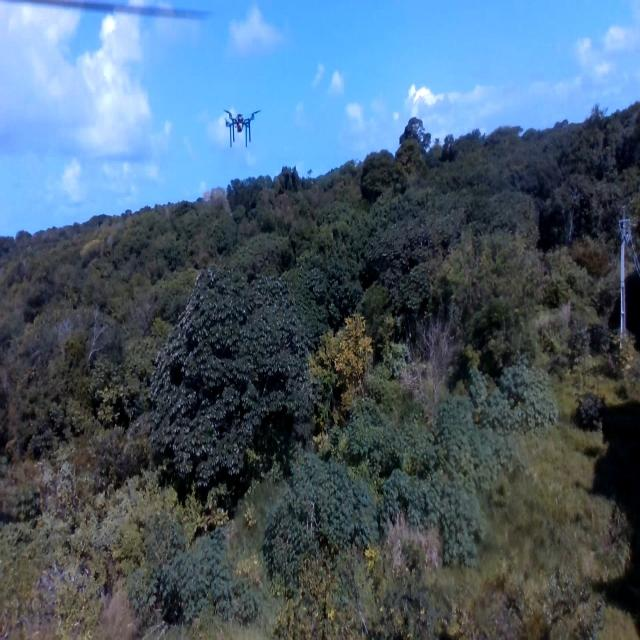-uav-: (219, 98, 265, 154)
